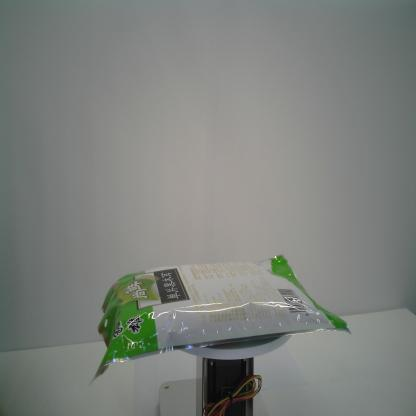Dried Food: (87, 250, 353, 388)
